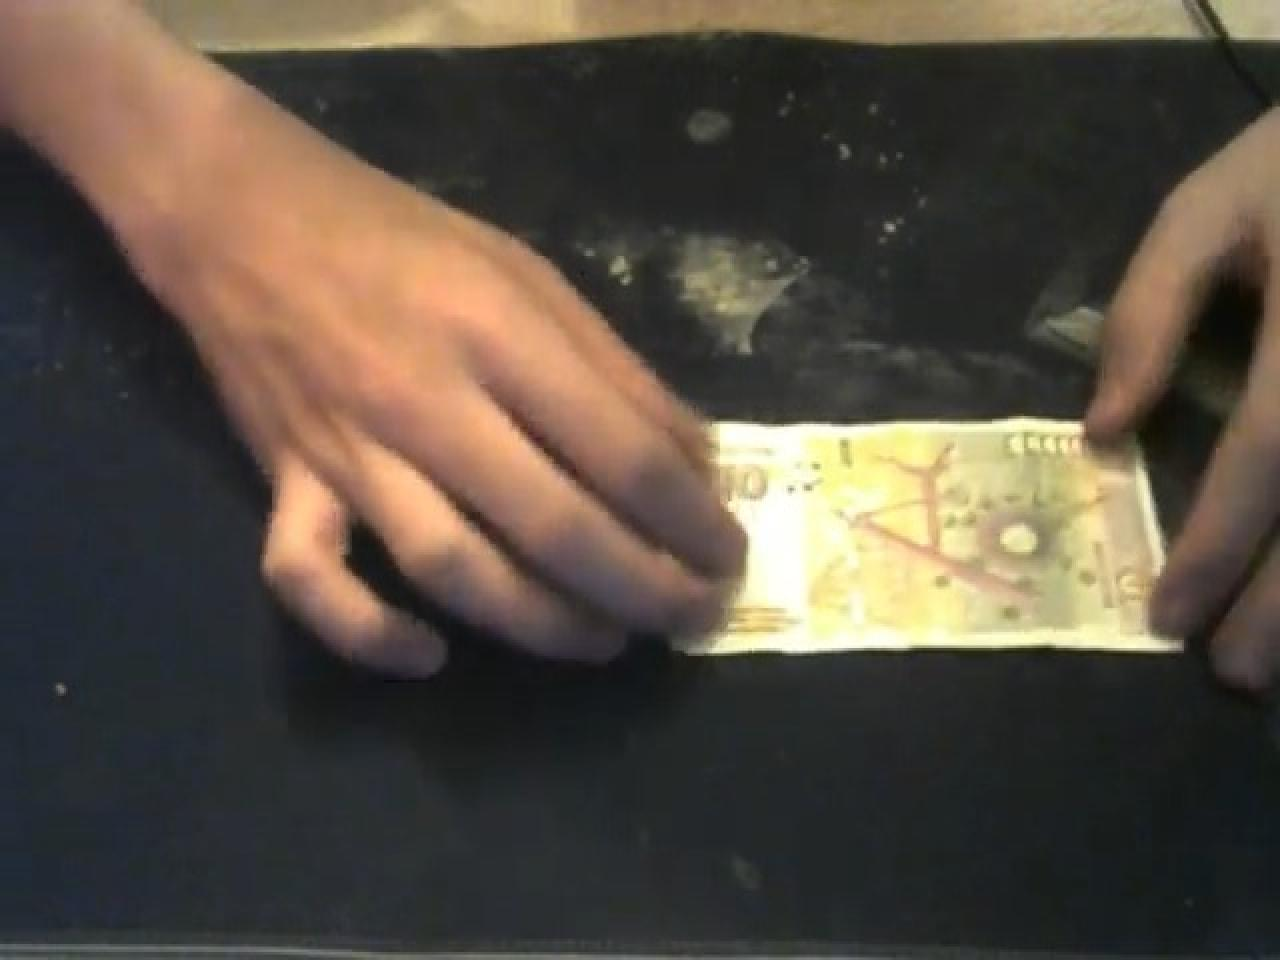10leva: (694, 418, 1172, 656)
